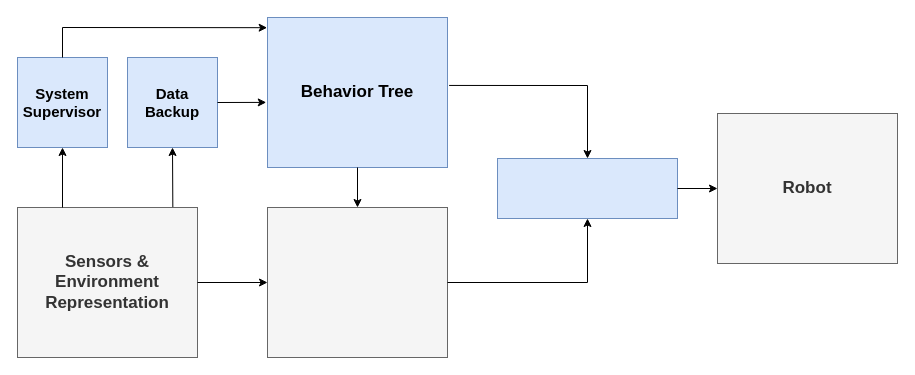
This 915x375 diagram has some shape labels left out. Here are the shapes that lost their labels. From the top down, the box of each, then its label:
(496, 158, 678, 218): Decision Gate
(266, 206, 448, 358): Navigation2
